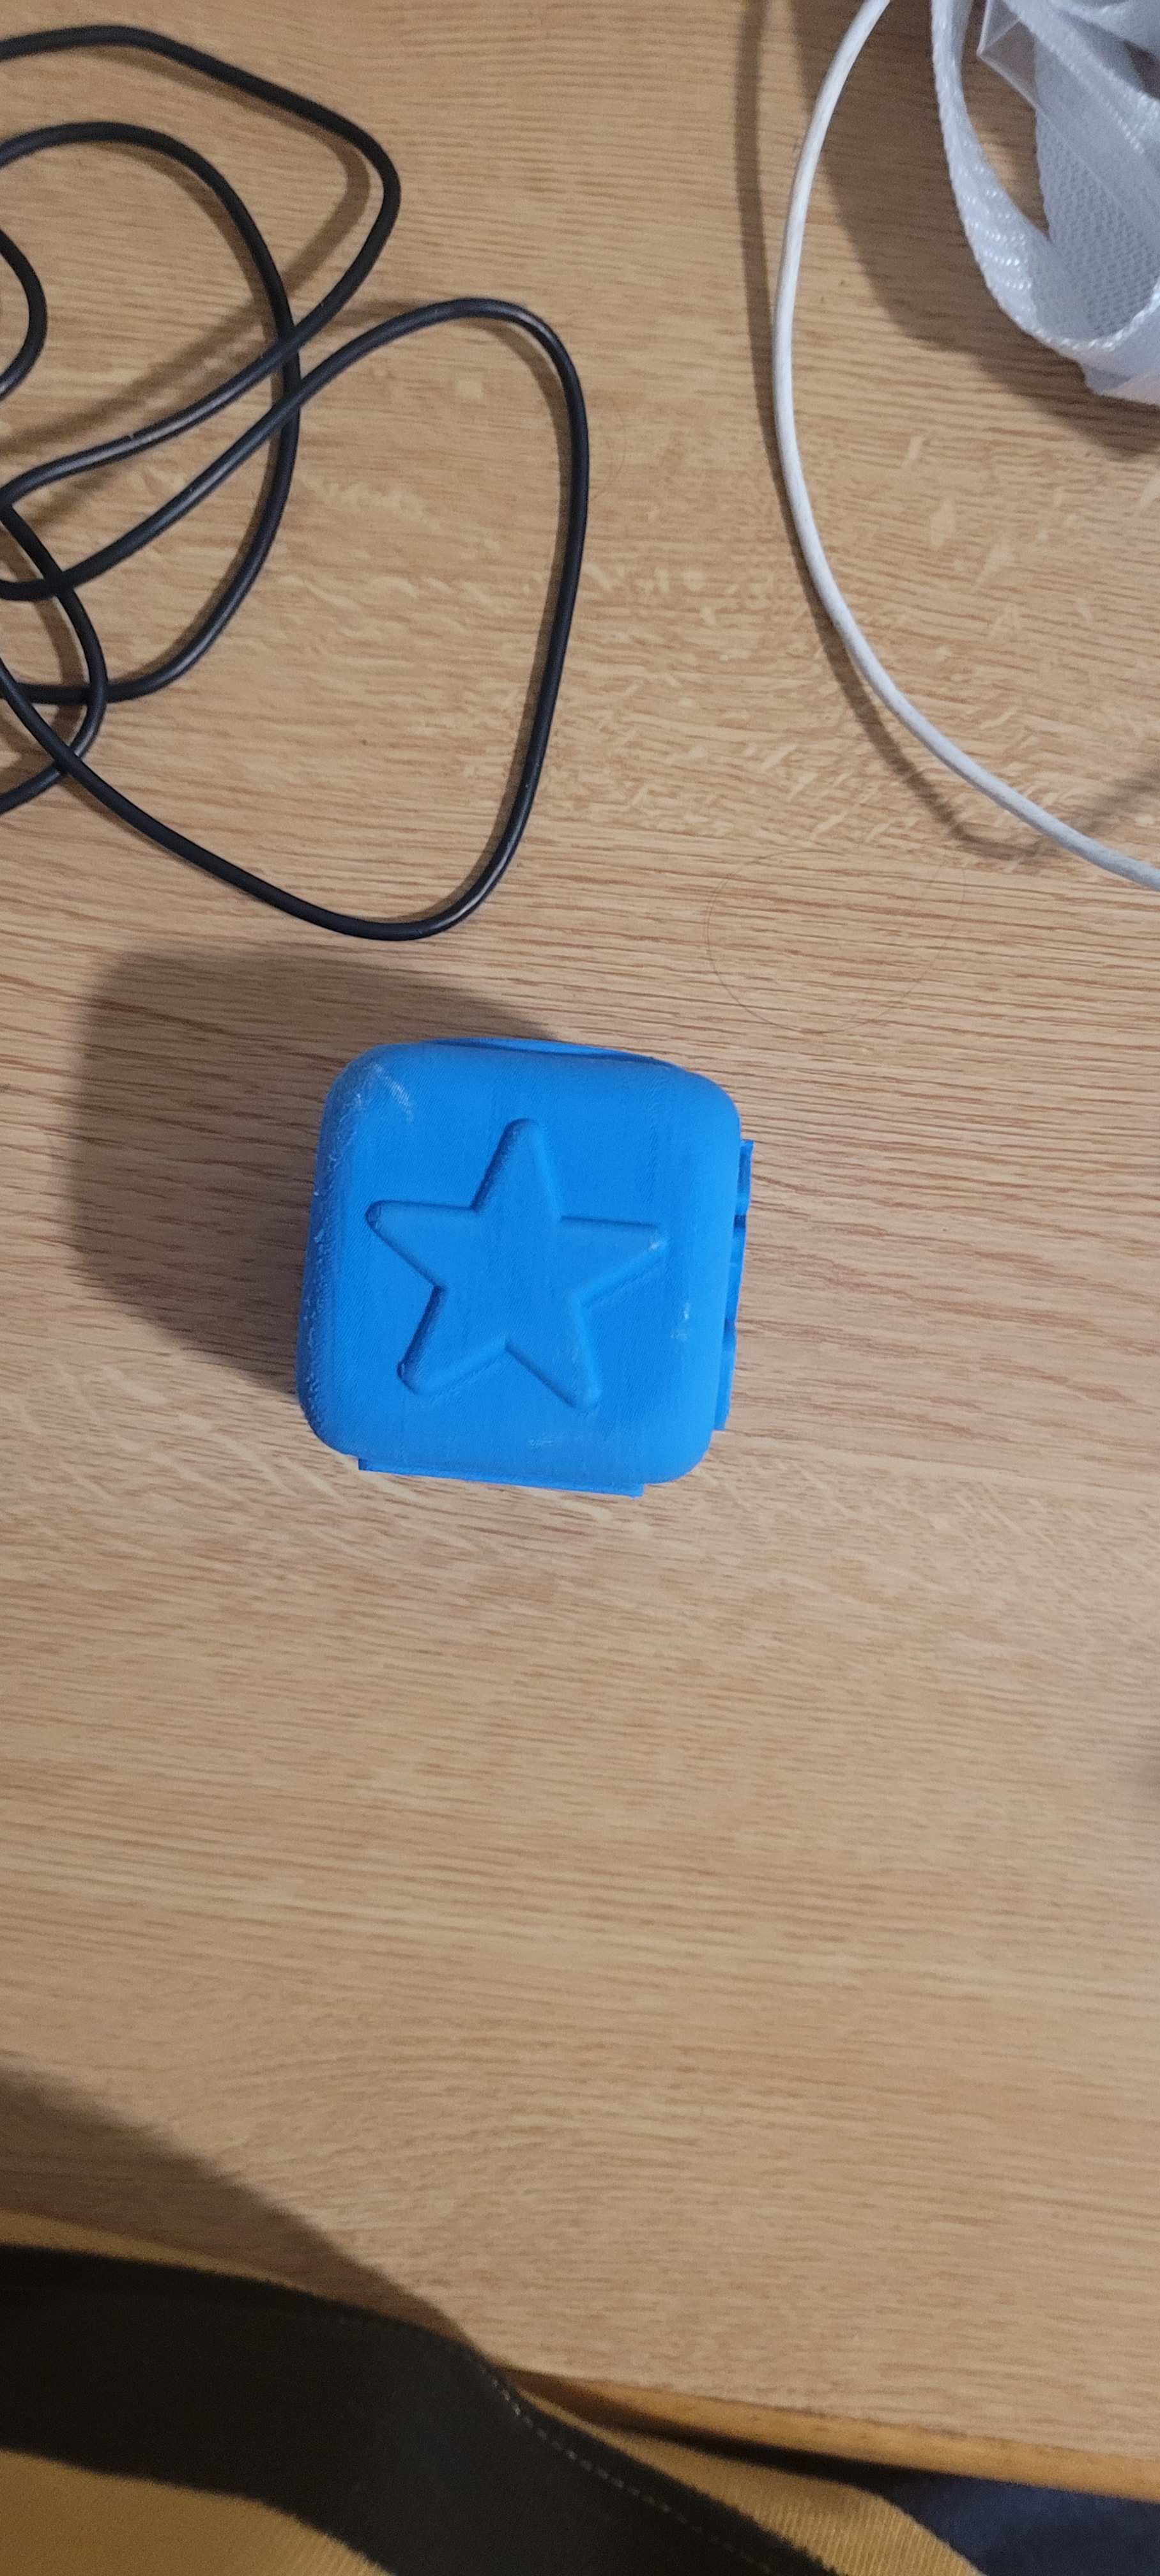Star: (343, 1053, 715, 1451)
